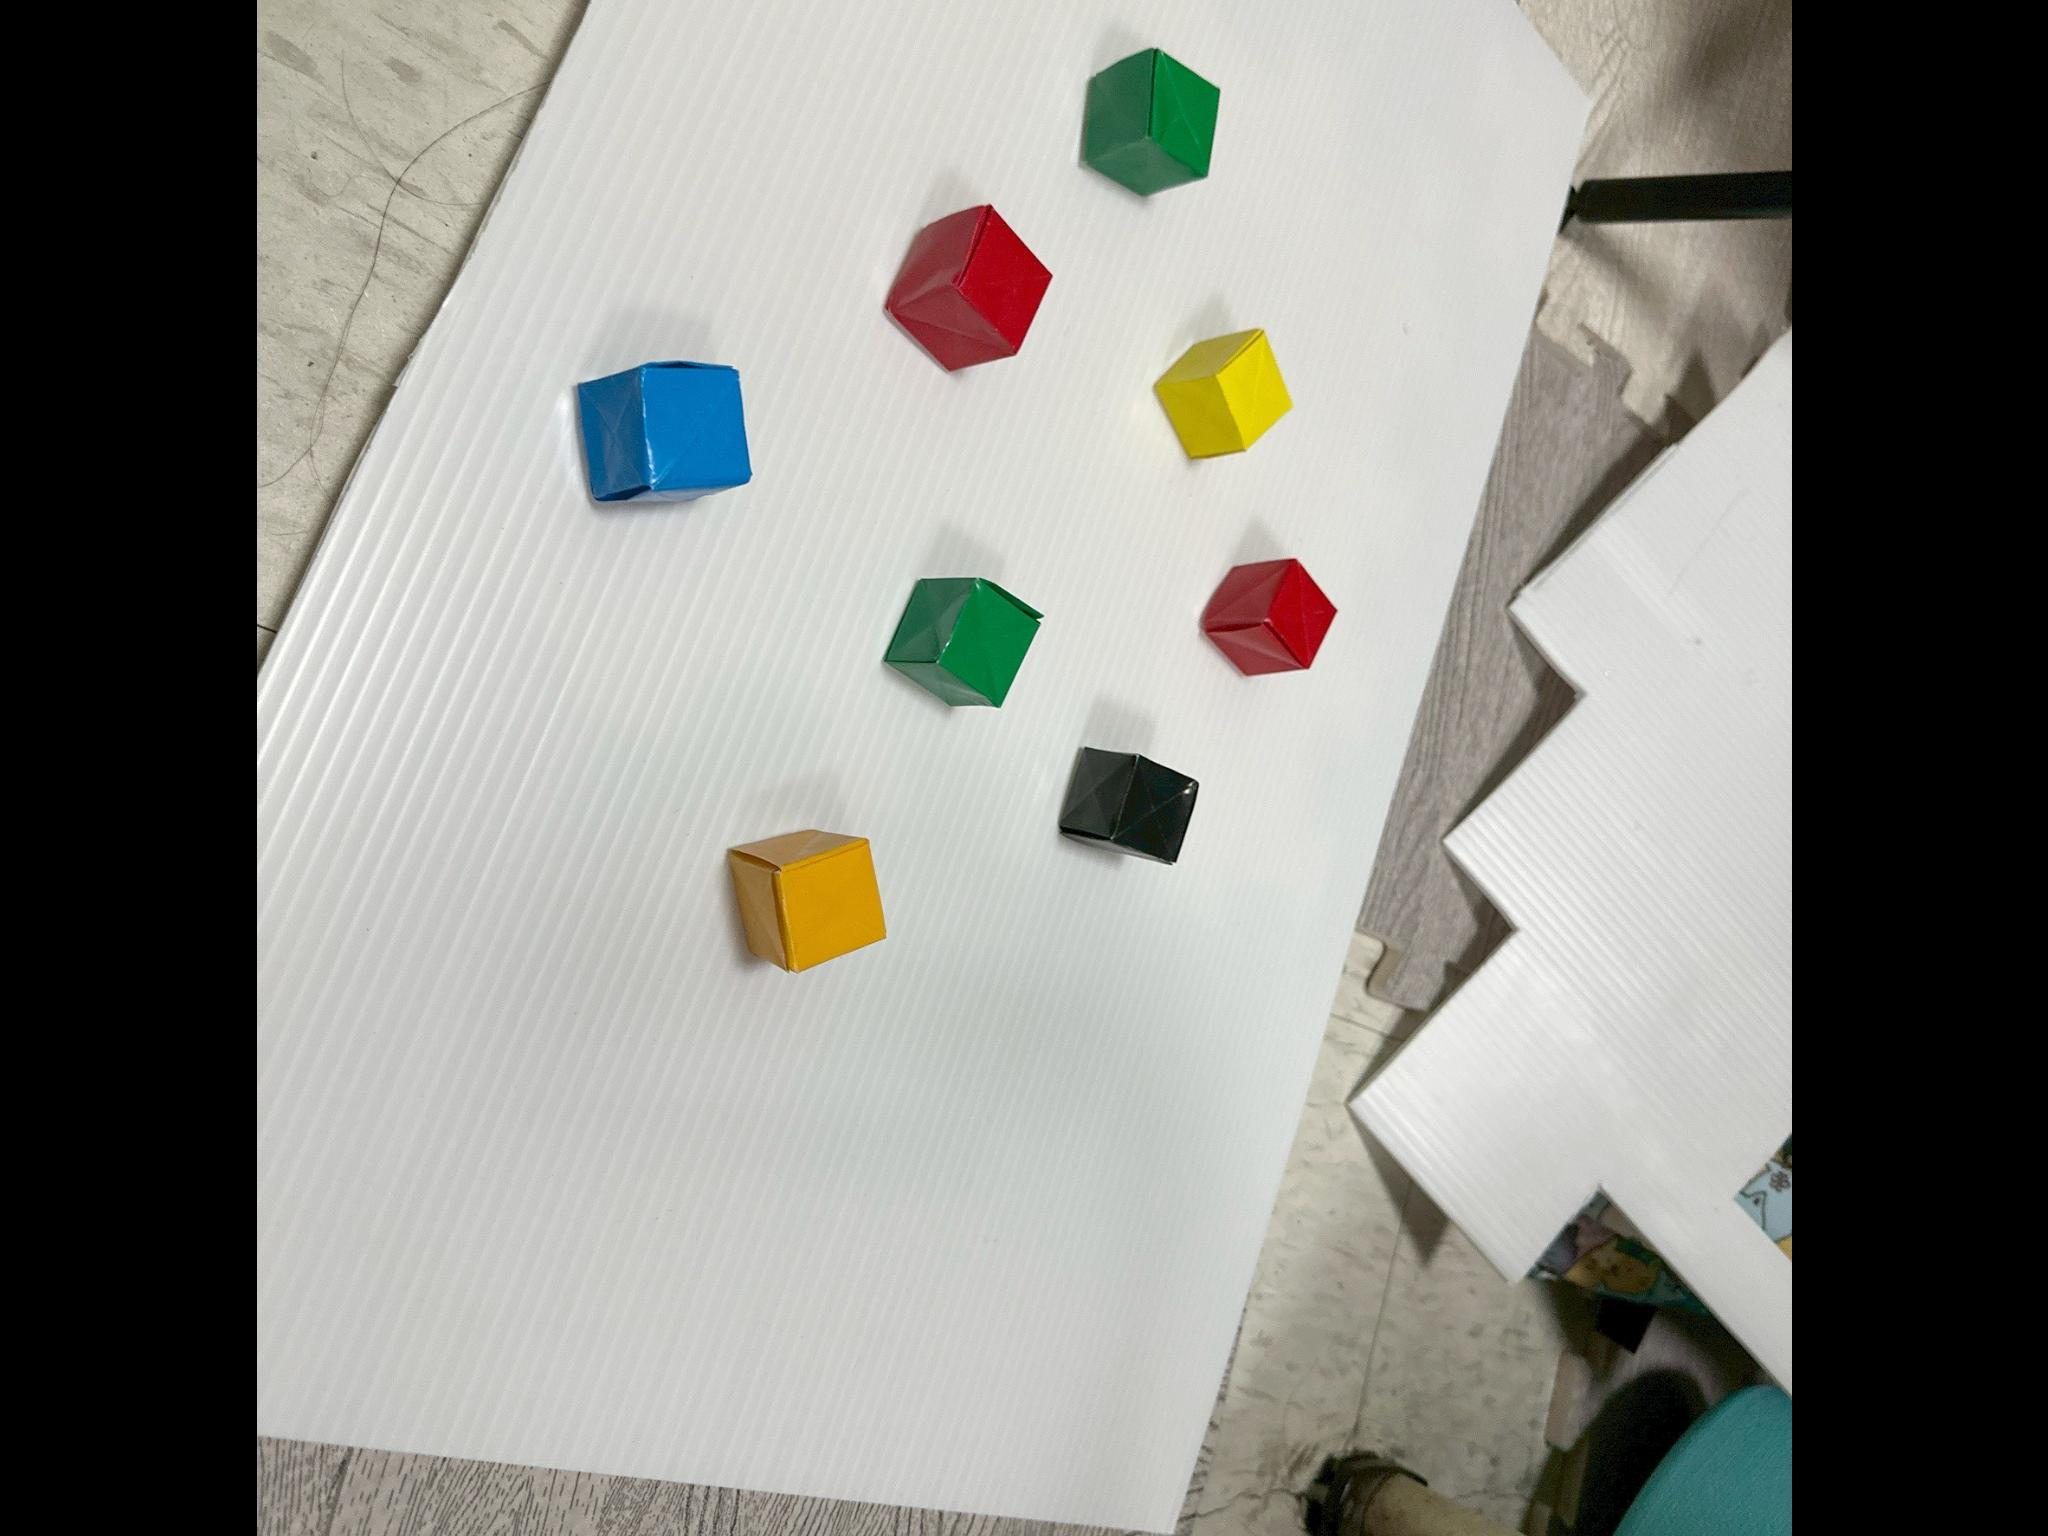base: (885, 207, 1050, 371), (574, 361, 751, 503), (729, 831, 885, 973), (1082, 48, 1219, 197), (884, 579, 1039, 707), (1155, 329, 1290, 460), (1058, 749, 1195, 863), (1201, 560, 1335, 676)
